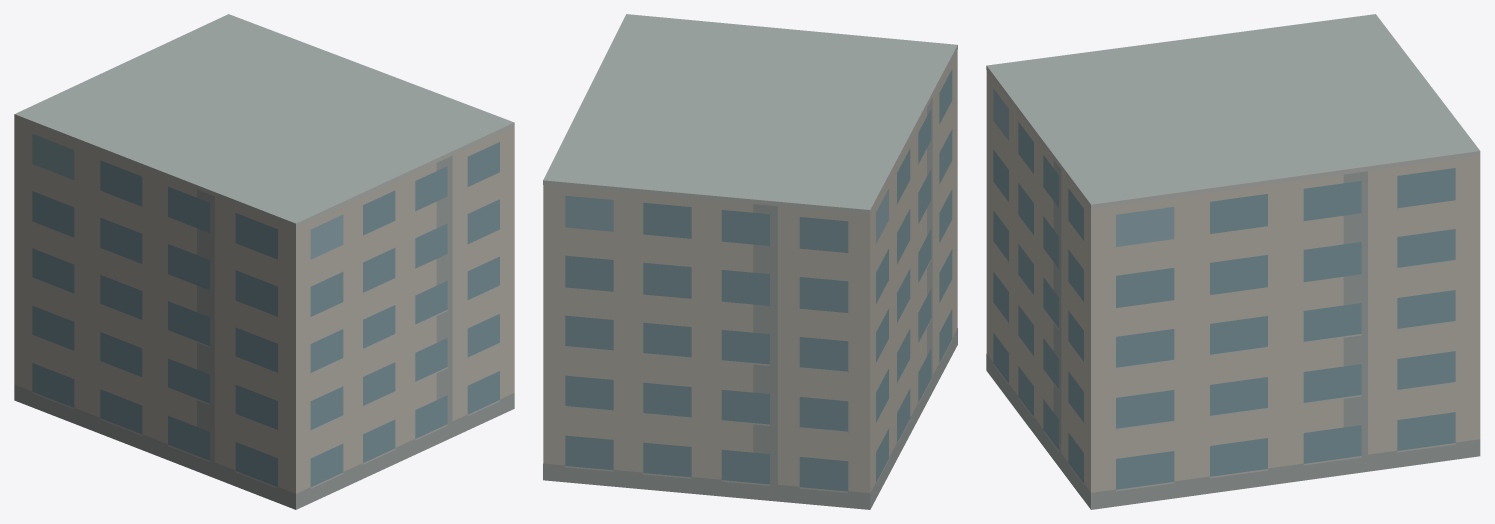
Rendered from survey-upis-32568456.glb.
The picture shows the model from 3 angles, left to right: view 1: azimuth 30°, elevation 25°; view 2: azimuth 150°, elevation 25°; view 3: azimuth 270°, elevation 25°; orthographic projection. The views are drawn at different scales.
Parts seen in each view (by area): view 1: survey-upis-32568456.tmp; view 2: survey-upis-32568456.tmp; view 3: survey-upis-32568456.tmp.
Boxes of the visible parts, x1,y1,x2,y2 form: survey-upis-32568456.tmp: (14,14,514,509); survey-upis-32568456.tmp: (543,14,957,509); survey-upis-32568456.tmp: (986,14,1480,509).
Size of the model in its own units: 21.18 by 15.8 by 23.18.
